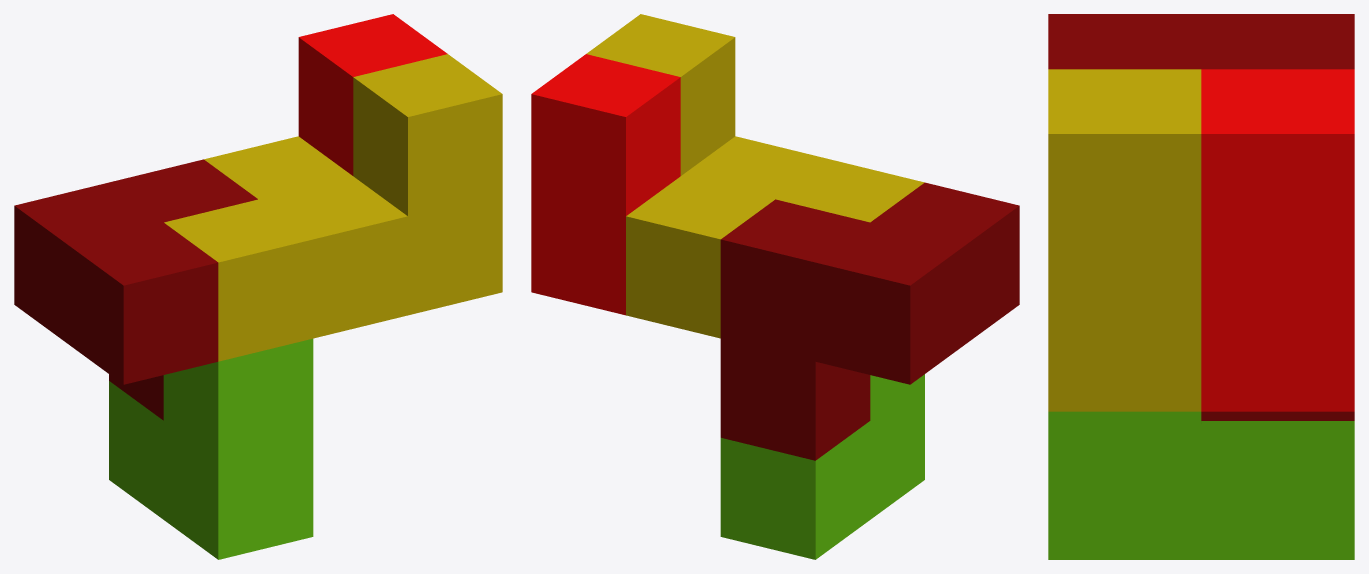
The picture shows the model from 3 angles, left to right: view 1: azimuth 30°, elevation 25°; view 2: azimuth 150°, elevation 25°; view 3: azimuth 270°, elevation 25°; orthographic projection. The views are drawn at different scales.
Visible parts, largest first — view 1: mergedBlocks(Clone); view 2: mergedBlocks(Clone); view 3: mergedBlocks(Clone).
Boxes of the visible parts, x1,y1,x2,y2 form: mergedBlocks(Clone): (14, 14, 502, 559); mergedBlocks(Clone): (531, 14, 1019, 559); mergedBlocks(Clone): (1048, 14, 1354, 559).
Bounding box in the file's own units: 4 × 4 × 2.
Materials: 4 (4 with a texture image).
